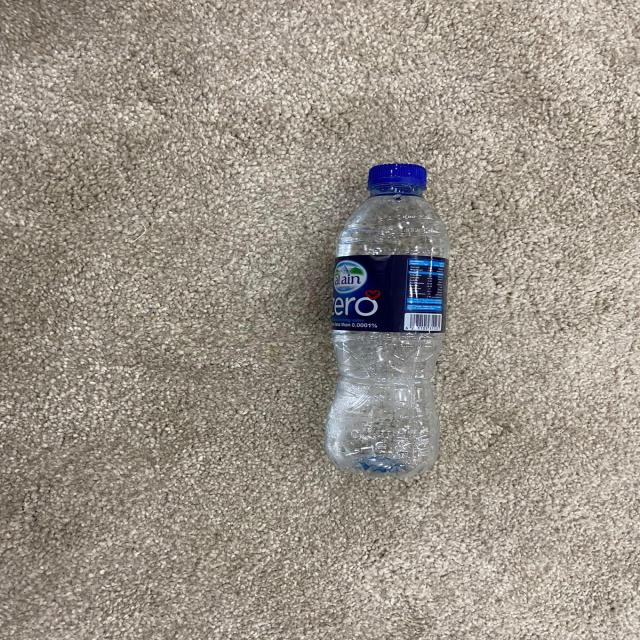bottle: (310, 158, 459, 476)
